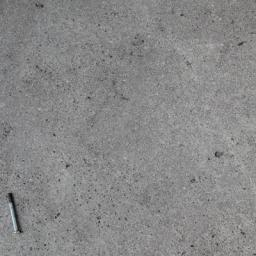FOD: (2, 192, 28, 238)
